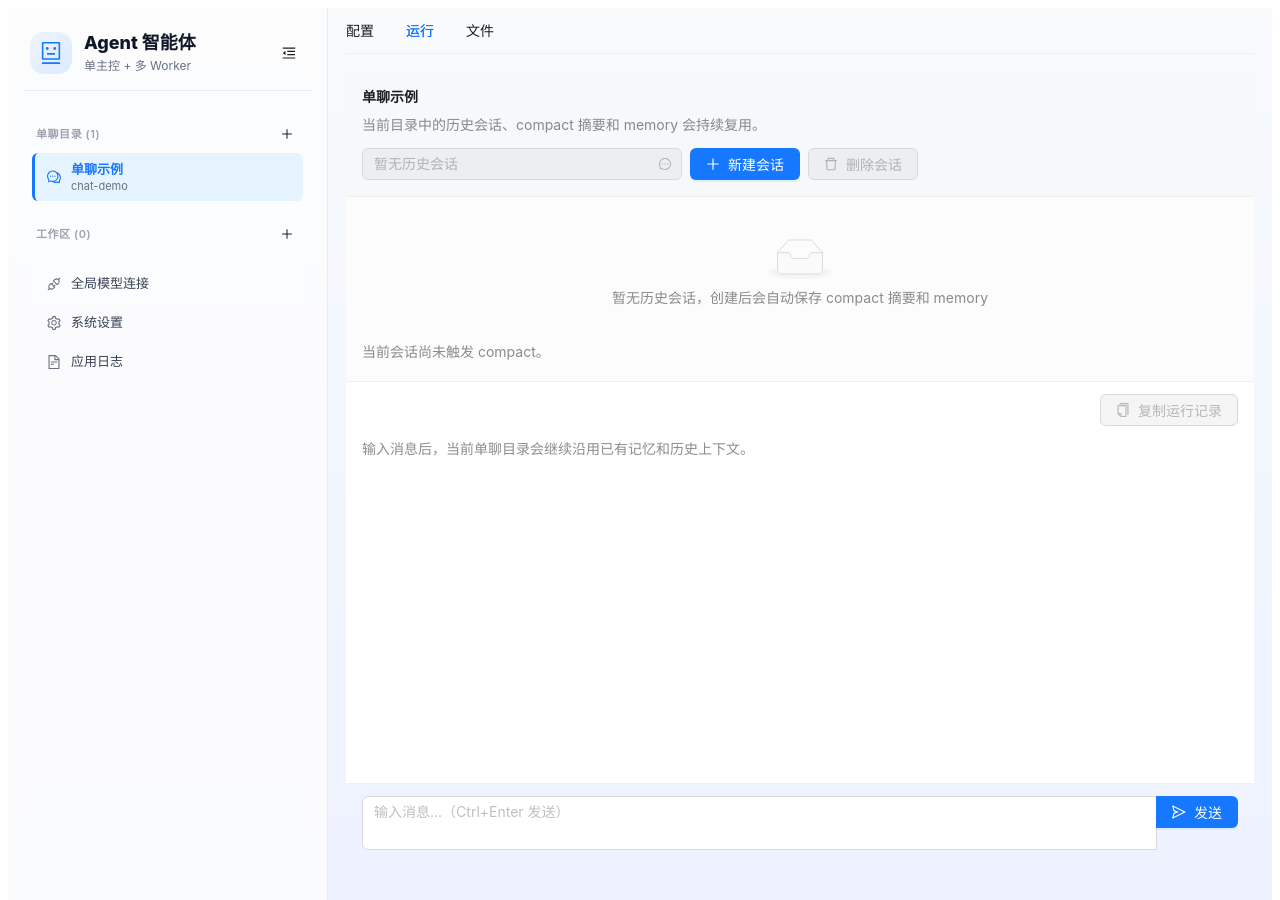
Test case: Dashboard › collapses desktop sidebar to icon mode and persists preference
The image size is (1280, 900).
Click the button named "折叠导航" at (289, 53), box x1=273 y1=37 x2=305 y2=69
(page scrolled)
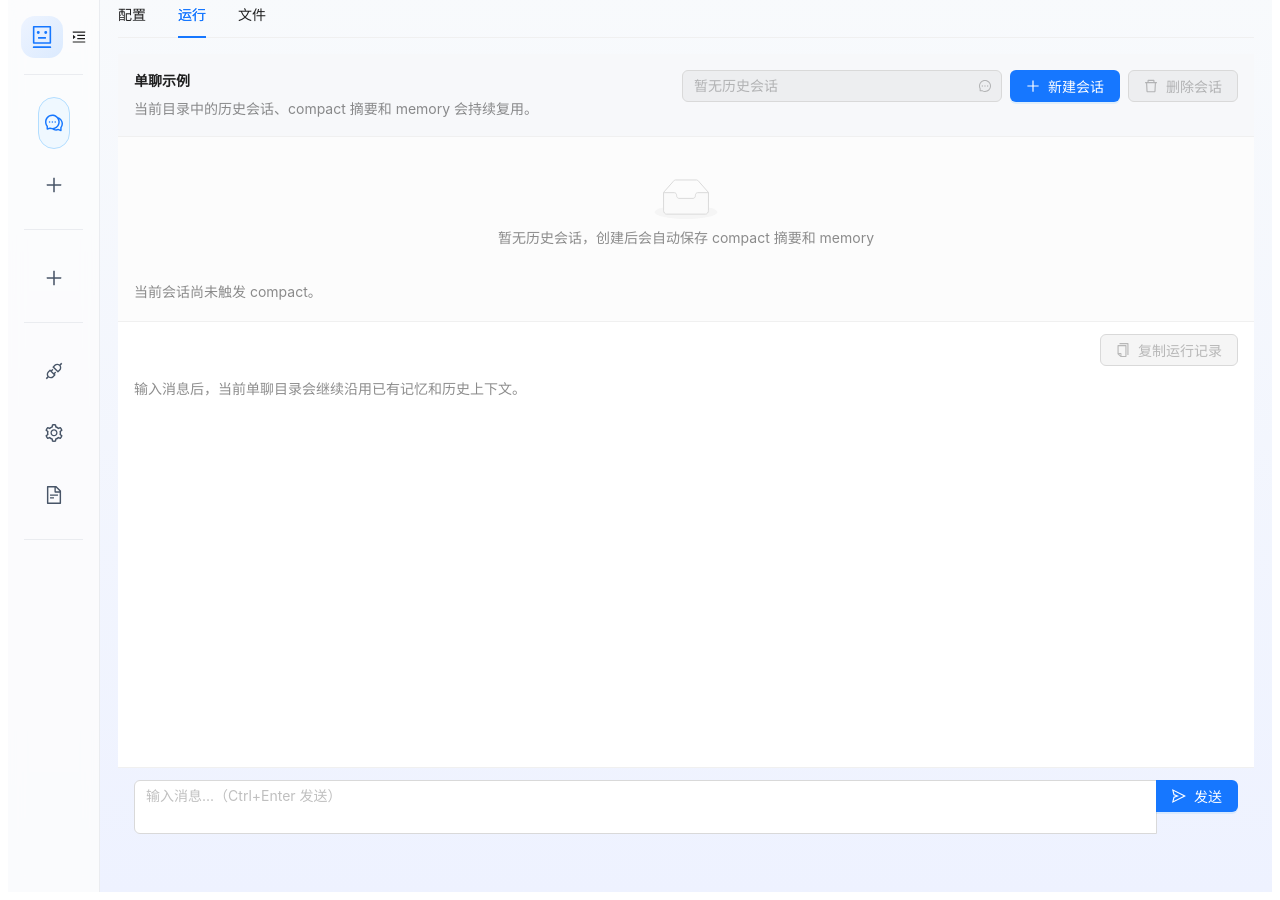
Check: the button named "展开导航" is shown, box x1=70 y1=21 x2=86 y2=53
Check: the button named "全局模型连接" is shown, box x1=38 y1=345 x2=70 y2=397
